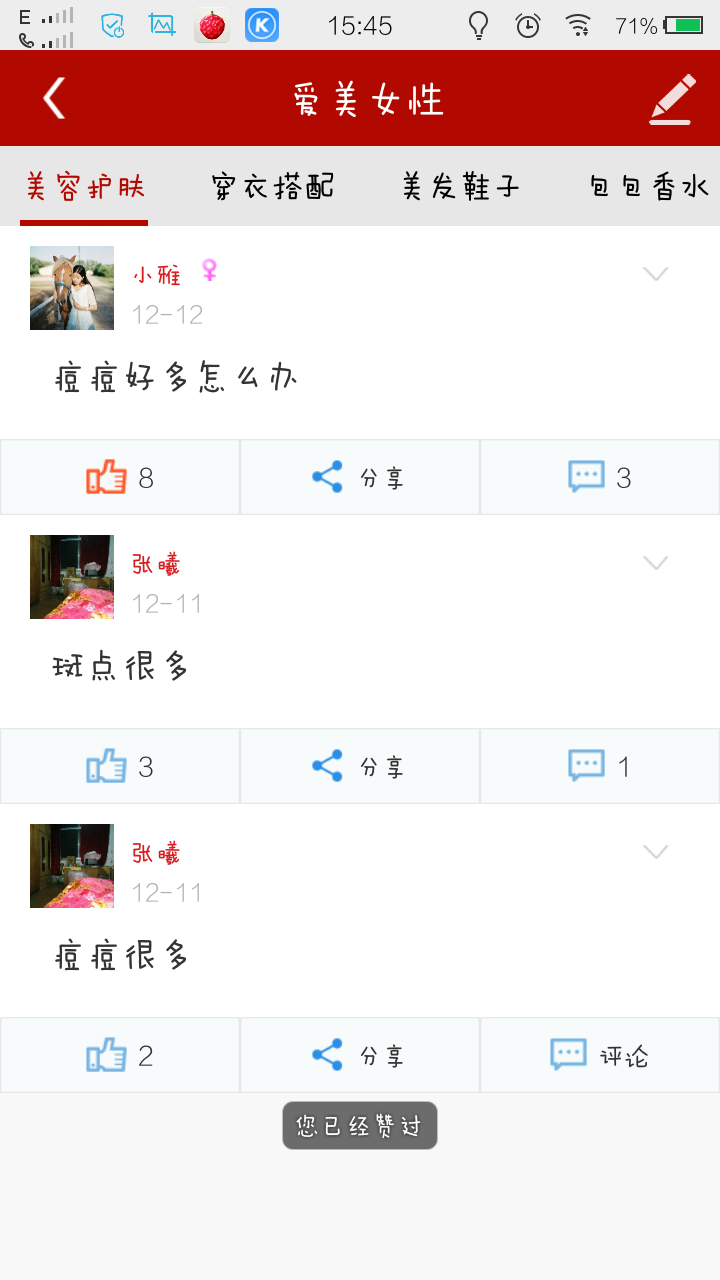alert: (257, 1095, 458, 1163)
checkbox: (61, 455, 164, 509)
imgbutton: (278, 453, 357, 501), (550, 449, 607, 502)
nav: (8, 146, 720, 227)
